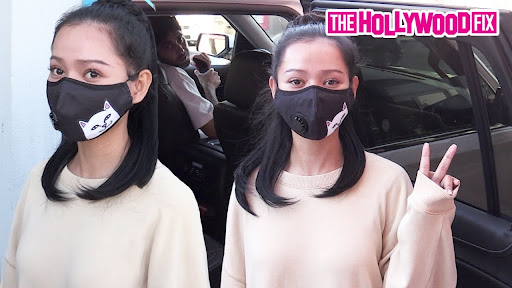with_mask: (46, 48, 117, 129), (282, 60, 348, 130)
without_mask: (163, 33, 188, 65)
